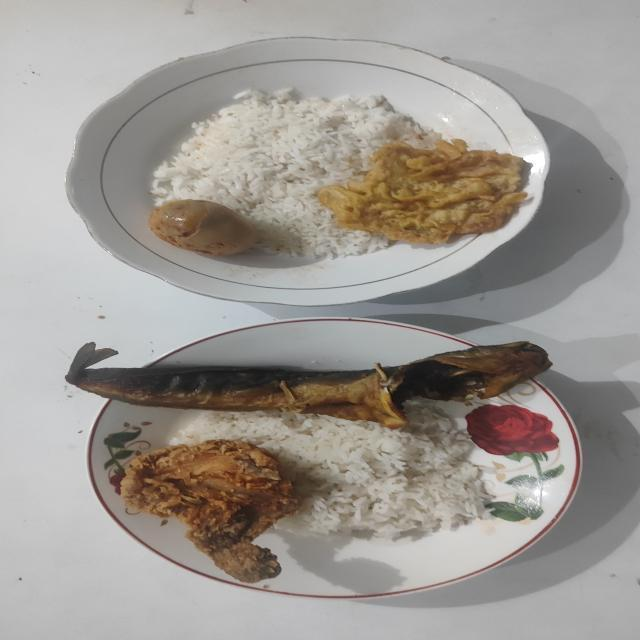nasi_putih: (153, 90, 426, 258), (172, 400, 490, 540)
